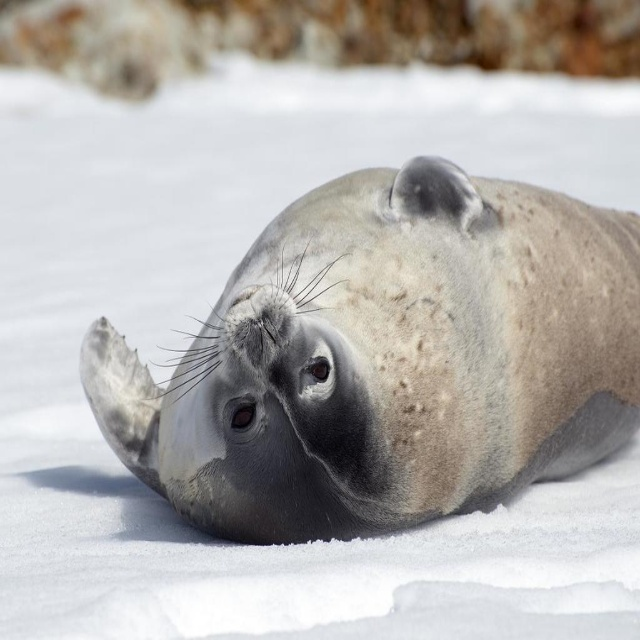Harbor seal: (76, 150, 639, 543)
